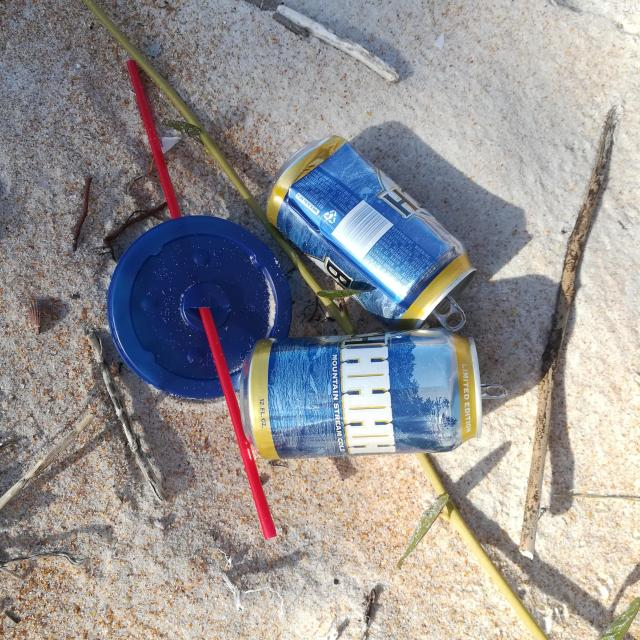litter: (98, 52, 286, 558), (255, 131, 496, 344), (253, 335, 486, 459), (427, 295, 471, 335), (470, 383, 502, 409)
